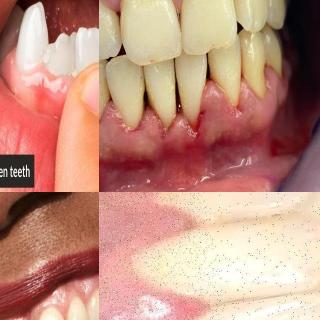Gum Swelling: (99, 66, 285, 158), (105, 192, 209, 320)
calculus: (173, 6, 194, 34)
maligned: (104, 53, 149, 135), (10, 0, 50, 80), (36, 17, 78, 77)
